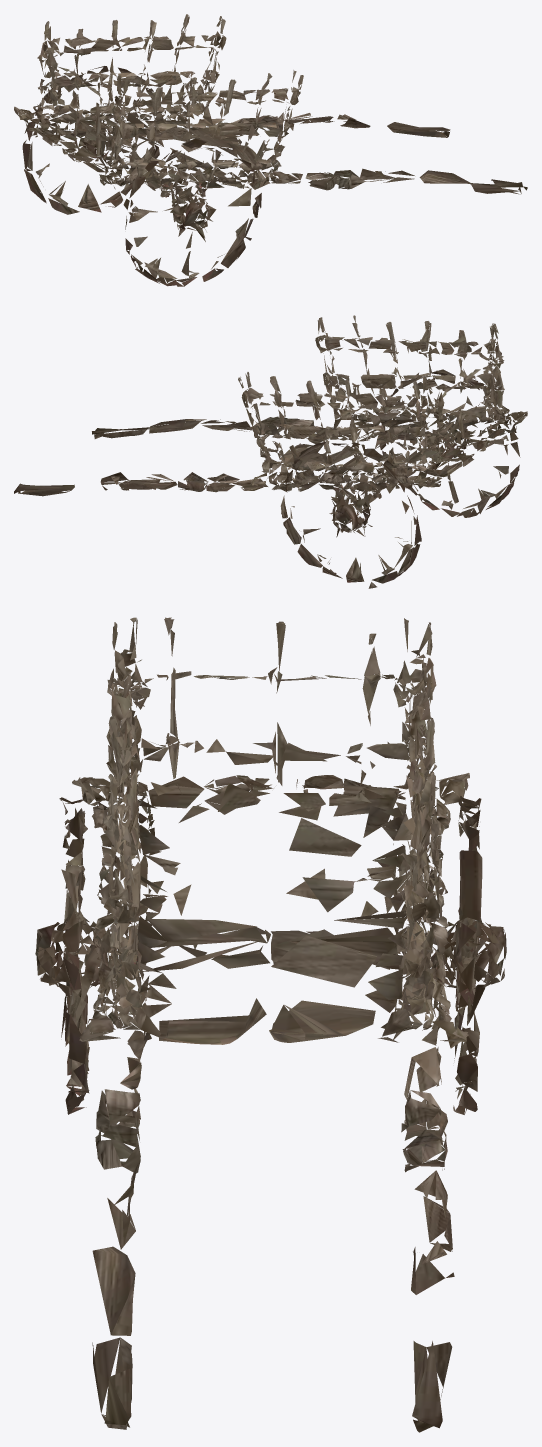
File: wagon.glb
3 views of the same model, one above another, from view 1: azimuth 30°, elevation 25°; view 2: azimuth 150°, elevation 25°; view 3: azimuth 270°, elevation 25° (orthographic). The views are drawn at different scales.
Parts seen in each view (by area): view 1: Mesh_0; view 2: Mesh_0; view 3: Mesh_0.
Part boxes in pixels (left/top/right/bottom): Mesh_0: left=14, top=14, right=527, bottom=286; Mesh_0: left=14, top=315, right=527, bottom=588; Mesh_0: left=35, top=617, right=506, bottom=1432.
Bounding box in the file's own units: 3.5 × 1.66 × 1.67.
Materials: 1 (1 with a texture image).
